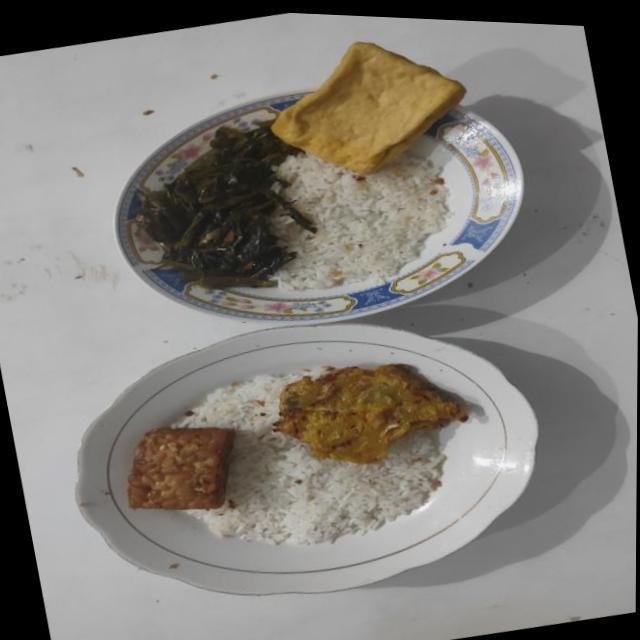nasi_putih: (182, 372, 445, 545), (270, 154, 452, 290)
tahu_goreng: (271, 42, 466, 175)
tempe_goreng: (127, 428, 235, 510)
tumis_kangkung: (138, 120, 316, 290)
